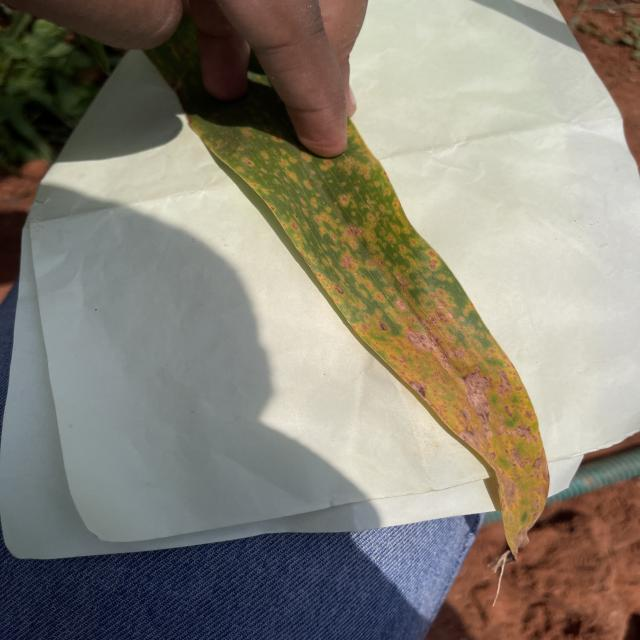millet_rust: (145, 19, 549, 561)
